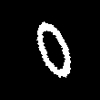chain: (37, 22, 70, 77)
